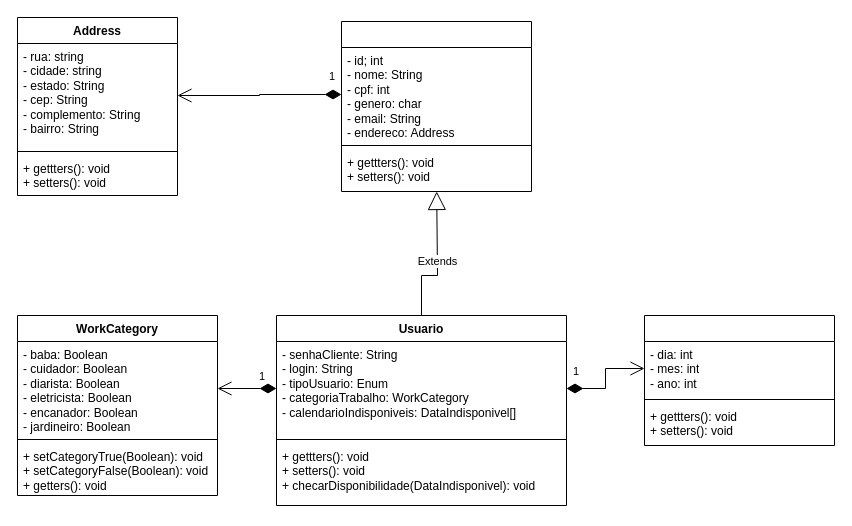
The diagram is 852 pixels wide and 526 high, and some of its shapes have lost their labels. Here are the shapes that lost their labels. From the top down, the box of each, then its label:
(340, 20, 532, 192): Pessoa
(644, 314, 834, 446): DataIndisponivel
